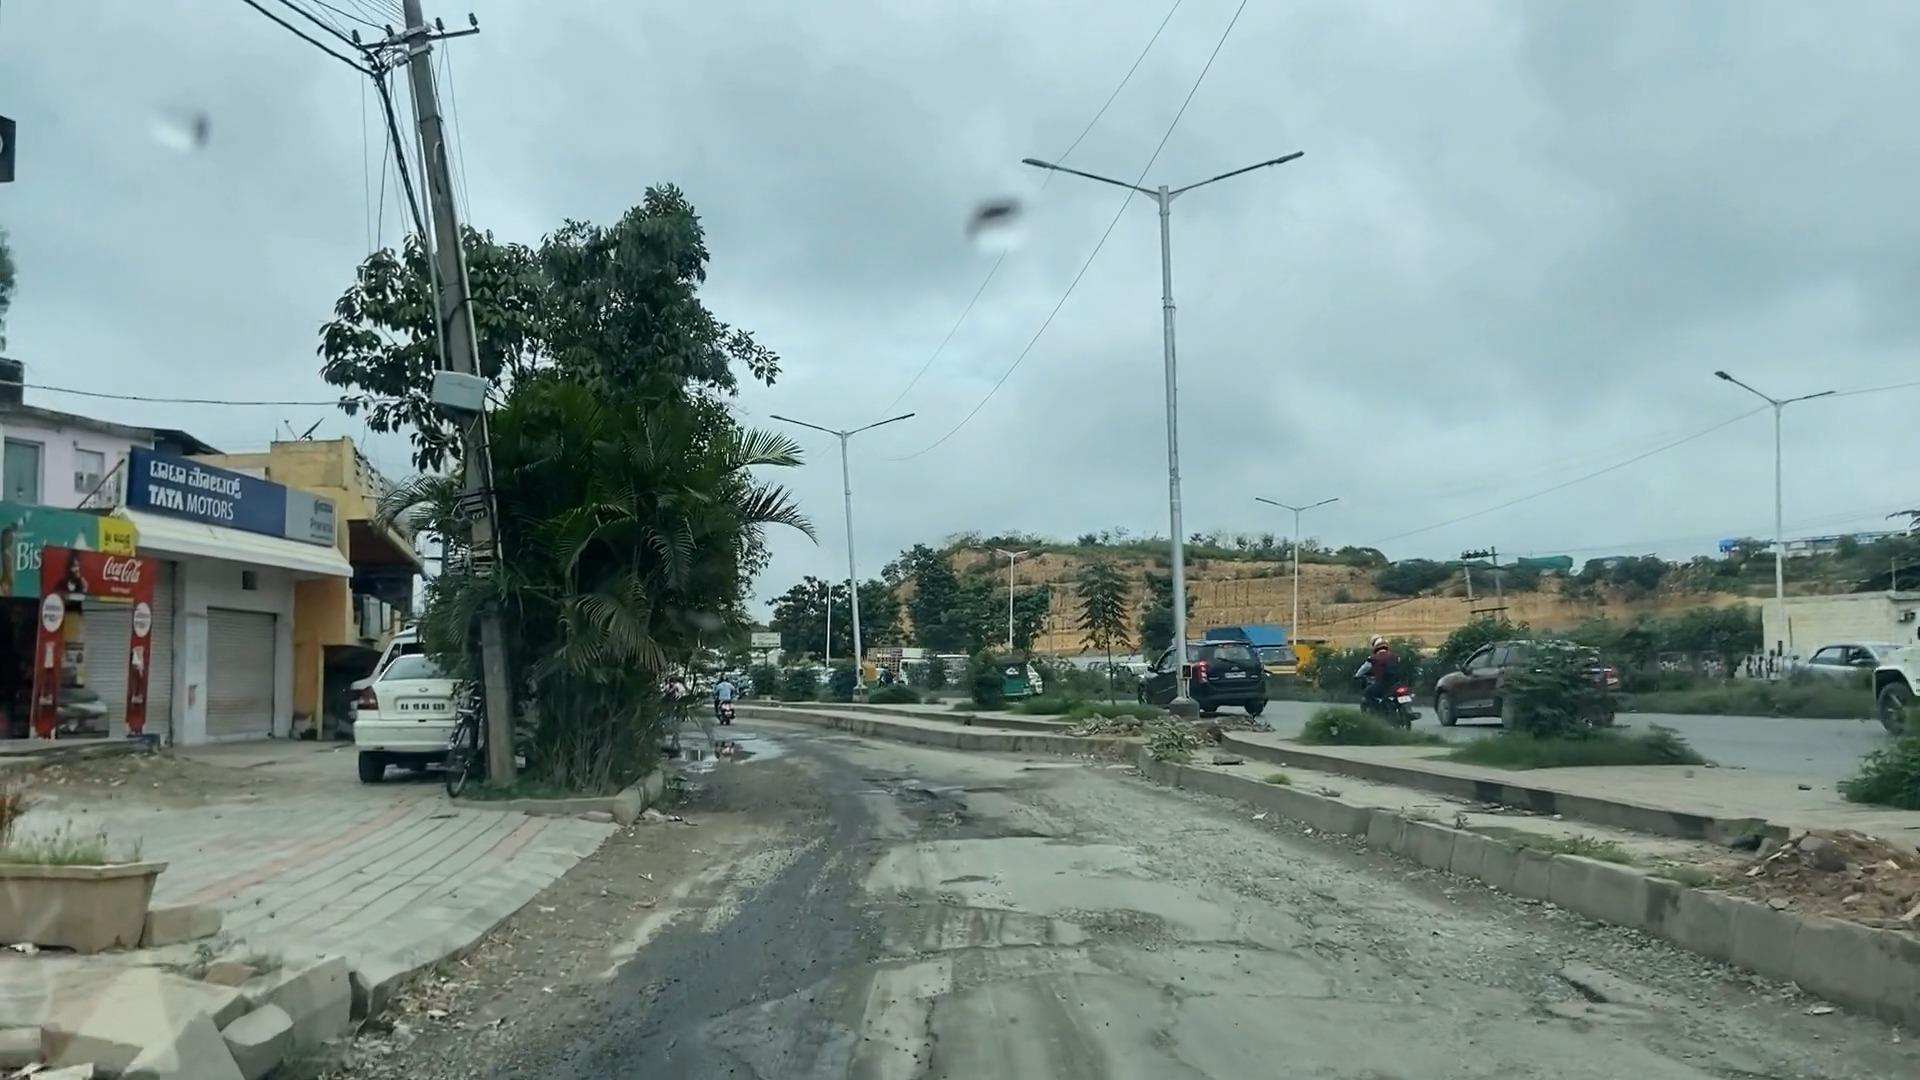RoadDamages: (827, 870, 1098, 1080), (1104, 860, 1427, 997), (1510, 927, 1717, 1062), (873, 757, 1069, 856)
